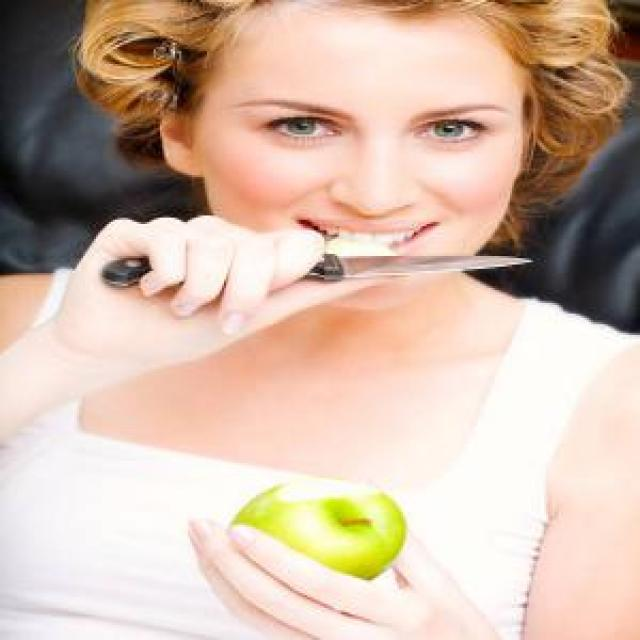knife: (98, 243, 538, 291)
